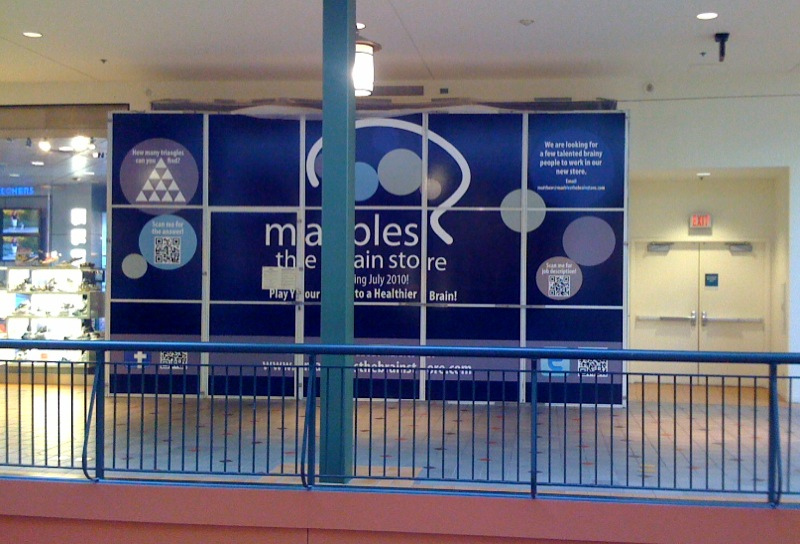QR-CODE: (155, 238, 179, 262), (579, 359, 605, 374), (549, 276, 568, 295), (162, 351, 185, 366)
